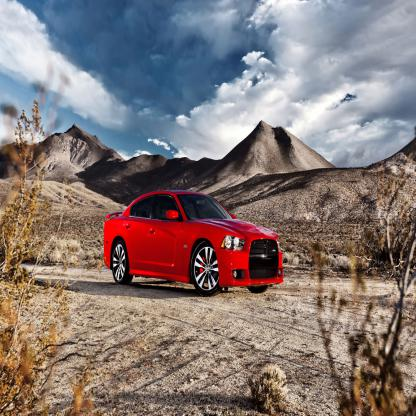Vehicle: (102, 185, 286, 297)
